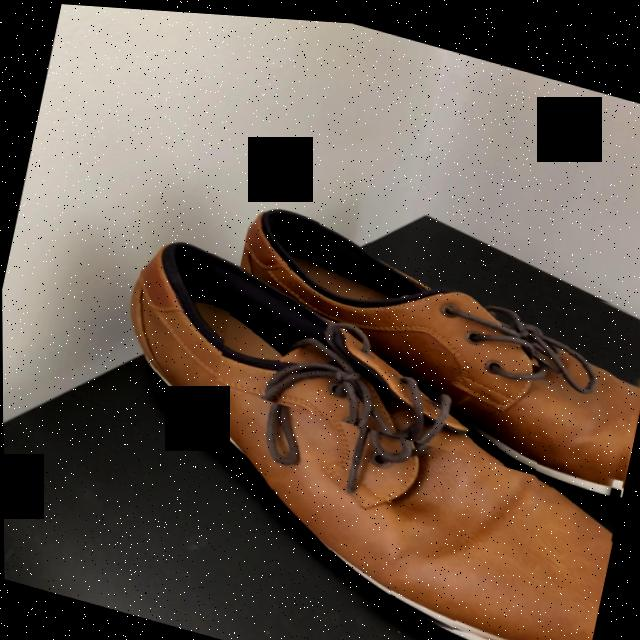shoe: (128, 239, 607, 640), (243, 209, 638, 486)
